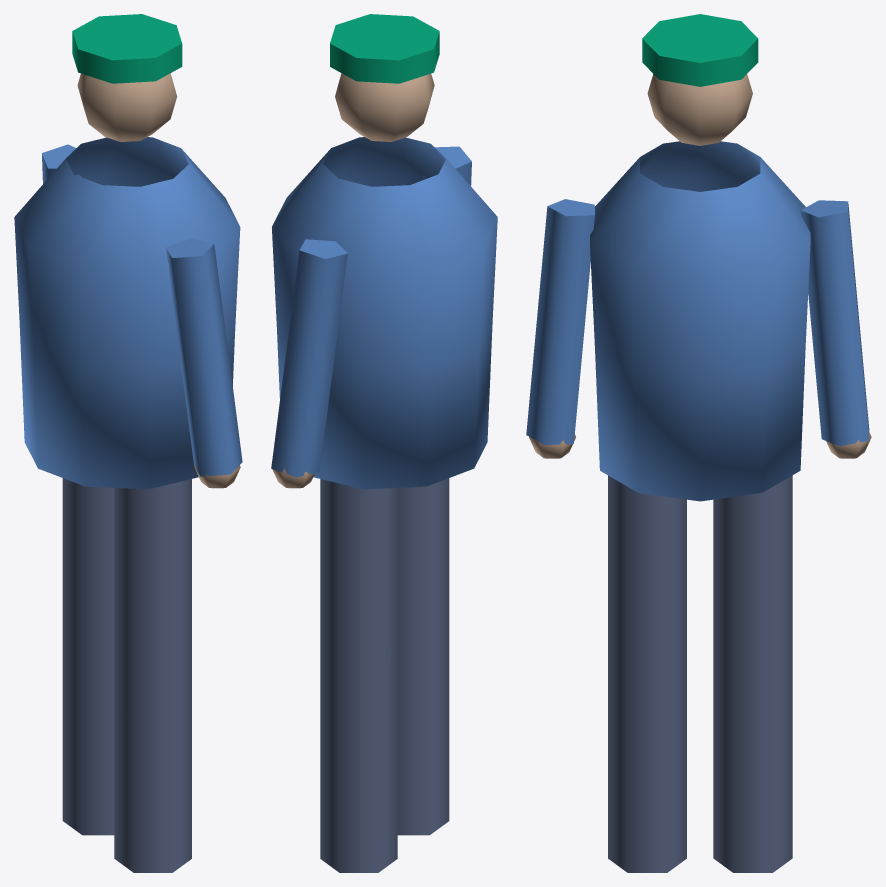
The model's file is SM_Person_Casual.fbx.
The picture shows the model from 3 angles, left to right: view 1: azimuth 30°, elevation 25°; view 2: azimuth 150°, elevation 25°; view 3: azimuth 270°, elevation 25°; orthographic projection. The views are drawn at different scales.
Parts seen in each view (by area): view 1: SM_Person_Casual; view 2: SM_Person_Casual; view 3: SM_Person_Casual.
Part boxes in pixels (left/top/right/bottom): SM_Person_Casual: left=14, top=14, right=242, bottom=872; SM_Person_Casual: left=271, top=14, right=497, bottom=872; SM_Person_Casual: left=526, top=14, right=871, bottom=872.
Size of the model in its own units: 44 by 172 by 65.48.
